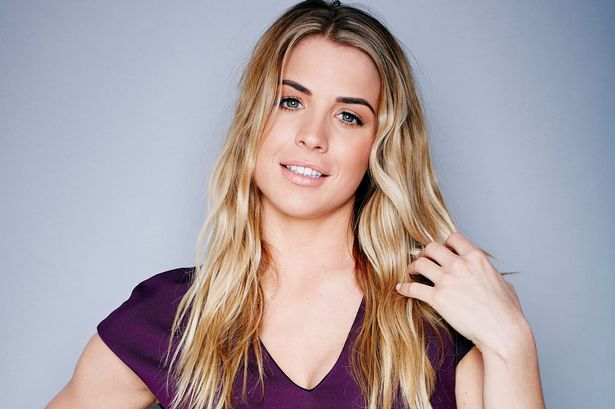happy: (251, 50, 386, 222)
